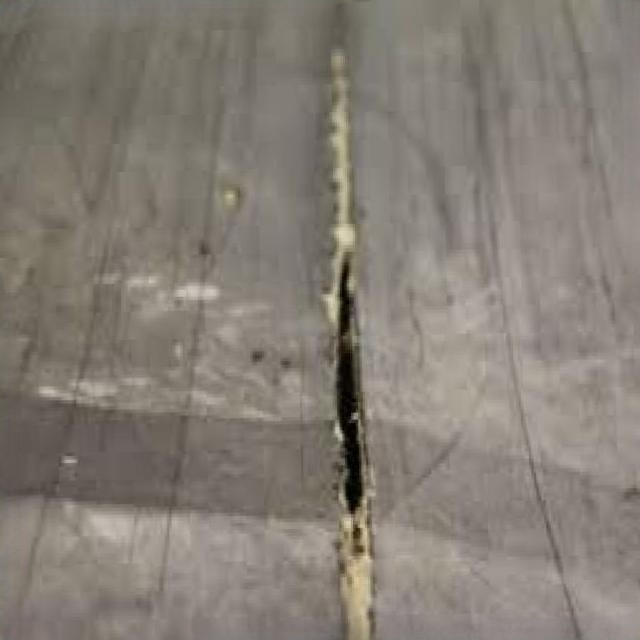Tear: (318, 250, 387, 550)
